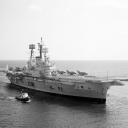Portanaves: (5, 37, 127, 107)
